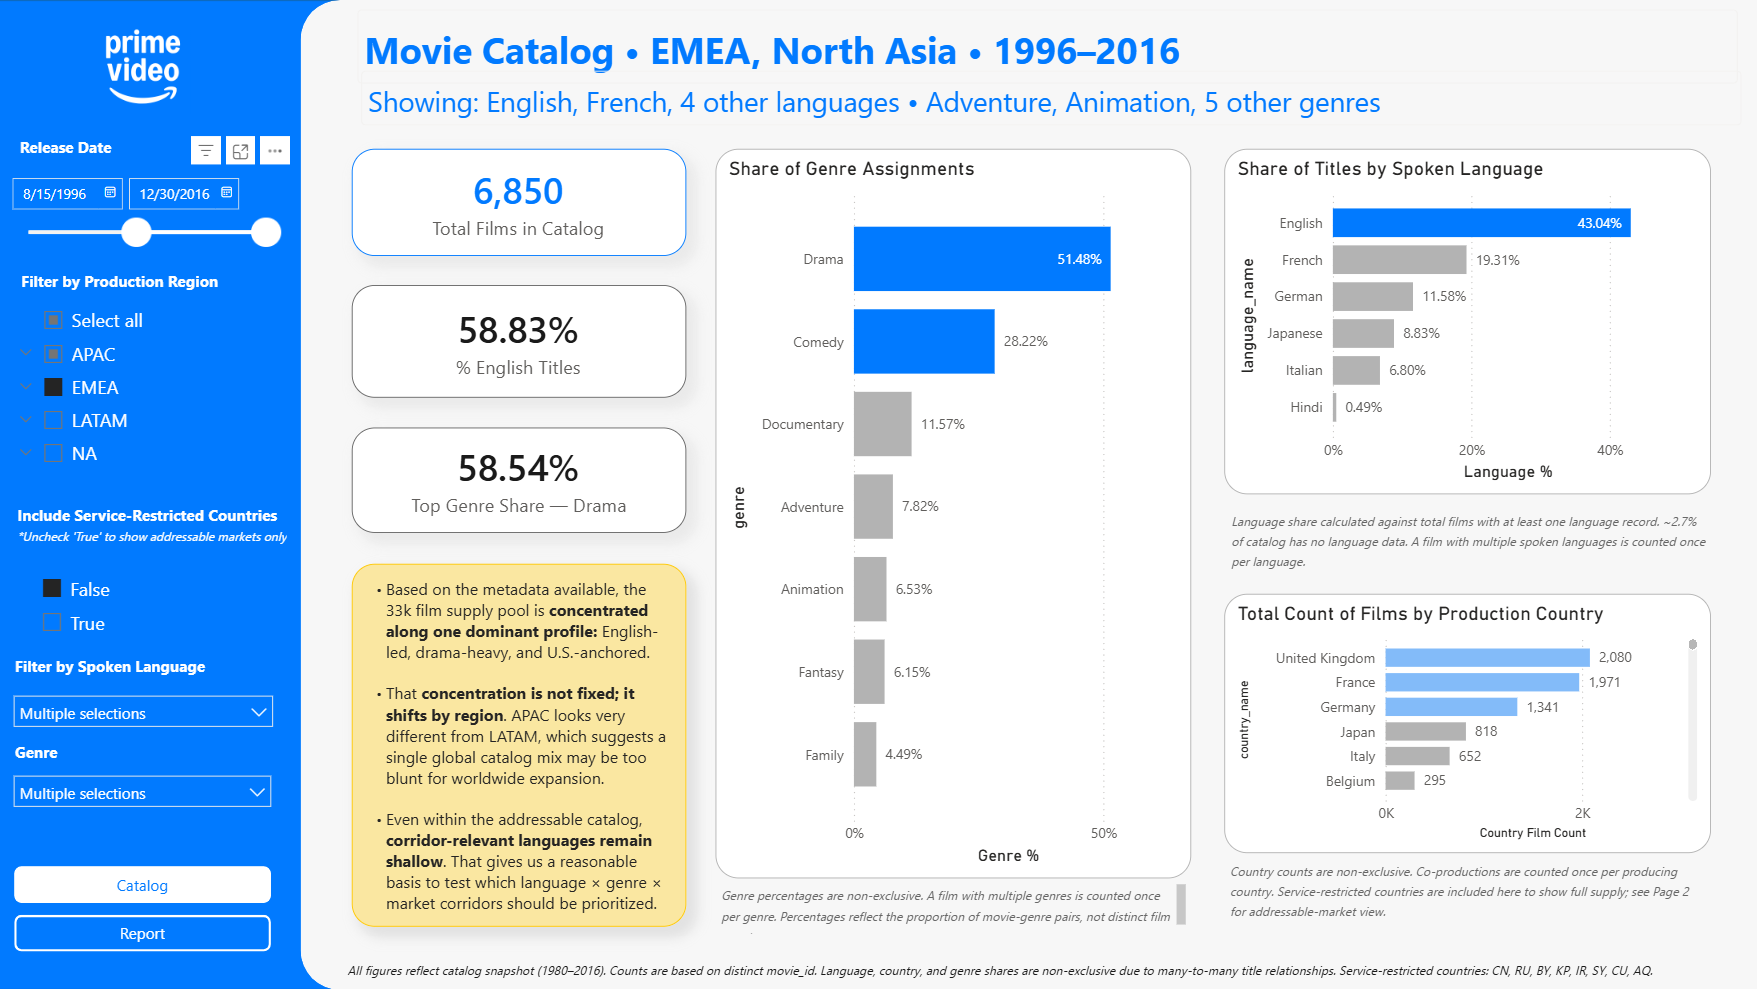

Layout of this report page (visuals, bound fields, positions):
{"tool":"powerbi","page":{"name":"Catalog","canvas":[1536,864],"ordinal":0},"visuals":[{"type":"shape","box":[0,0,312,864],"z":0},{"type":"shape","box":[264,0,1272,864],"z":1000},{"type":"shape","box":[1496,0,40,864],"z":2000},{"type":"barChart","title":"Share of Genre Assignments","fields":{"Category":["viz_genre_axis.genre"],"Y":["gold_gold fact_movies.Genre %"]},"box":[626.7,130,415,636.7],"z":3000},{"type":"slicer","fields":{"Values":["gold_gold mart_country_summary.country_region","gold_gold mart_country_summary.country_subregion"]},"box":[2.9,259.5,254.3,156.2],"z":3000,"group":"g5"},{"type":"slicer","fields":{"Values":["viz_language_filter.language_name"]},"box":[3,596,247,46],"z":3000,"group":"g3"},{"type":"barChart","title":"Share of Titles by Spoken Language","fields":{"Category":["gold_gold bridge_movie_languages.language_name"],"Y":["gold_gold fact_movies.Language %"]},"box":[1070,130,425,301.7],"z":4000},{"type":"slicer","fields":{"Values":["gold_gold mart_country_summary.is_service_restricted"]},"box":[25.7,494.6,237.8,101.1],"z":4000,"group":"g6"},{"type":"image","box":[84,0,84,114],"z":5000},{"type":"cardVisual","fields":{"Data":["gold_gold fact_movies.Total Films in Catalog (Dynamic Display)"]},"box":[308.3,130,291.7,93.3],"z":6000},{"type":"barChart","title":"Total Count of Films by Production Country","fields":{"Category":["gold_gold mart_country_summary.country_name"],"Y":["gold_gold mart_country_summary.Country Film Count"]},"box":[1070,518.3,425,226.7],"z":7000},{"type":"textbox","box":[1071.7,440,425,70],"z":8000},{"type":"textbox","box":[626.7,766.7,415,53.3],"z":9000},{"type":"textbox","box":[1070,745,425,75],"z":10000},{"type":"textbox","box":[300,831.7,1236.7,31.7],"z":11000},{"type":"textbox","box":[308.3,491.7,291.7,316.7],"z":12000},{"type":"textbox","box":[10,567,195.6,38.9],"z":12000,"group":"g3"},{"type":"textbox","box":[13.7,115,125,30],"z":13000},{"type":"slicer","fields":{"Values":["gold_gold fact_movies.release_date"]},"box":[0.3,145,255,95],"z":14000},{"type":"textbox","box":[14.9,231.4,195.5,28.1],"z":14000,"group":"g5"},{"type":"group","id":"g1","title":"Group 1","box":[2.9,231.4,254.3,184.3],"z":15000},{"type":"textbox","box":[11.5,435.7,245.3,60],"z":15000,"group":"g6"},{"type":"group","id":"g2","title":"Group 2","box":[11.5,435.7,252,160],"z":16000},{"type":"group","id":"g3","title":"Group 5","box":[3,567,247,75],"z":17000},{"type":"group","id":"g4","title":"Group 6","box":[3.3,642.2,245.6,62.2],"z":18000},{"type":"slicer","fields":{"Values":["viz_genre_filter.genre"]},"box":[3.3,666.6,245.6,37.8],"z":18000,"group":"g4"},{"type":"cardVisual","fields":{"Data":["gold_gold fact_movies.% English Titles (Dynamic)"]},"box":[308.3,248.3,291.7,98.3],"z":19000},{"type":"group","id":"g5","title":"Group 4","box":[2.9,231.4,254.3,184.3],"z":19001,"group":"g1"},{"type":"group","id":"g6","title":"Group 3","box":[11.5,435.7,252,160],"z":19001,"group":"g2"},{"type":"cardVisual","fields":{"Data":["gold_gold fact_movies.Top Genre Share % (Dynamic)"]},"box":[308.3,373.3,291.7,91.7],"z":20000},{"type":"textbox","box":[9.4,642.2,195,38.3],"z":21000,"group":"g4"},{"type":"pageNavigator","box":[14.4,755.6,224.4,74.4],"z":21000},{"type":"cardVisual","fields":{"Data":["gold_gold fact_movies.Movie Catalog Title (Dynamic)"]},"box":[308.3,3.3,1215,75],"z":22000},{"type":"cardVisual","fields":{"Data":["gold_gold fact_movies.Movie Catalog Subtitle (Dynamic)"]},"box":[311.7,56.7,1215,58.3],"z":23000},{"type":"cardVisual","fields":{"Data":["gold_gold fact_movies.Top Genre Share Label (Dynamic)"]},"box":[308.6,415.7,292.9,47.1],"z":24000}]}

Visuals, with their boxes on the page's 1536x864 design canvas (x1, y1, x2, y2). These are canvas units, not pixel positions in the 1757x989 screenshot, which may show the page scaled, cropped or inside an application window:
shape: l=0, t=0, r=312, b=864
shape: l=264, t=0, r=1536, b=864
shape: l=1496, t=0, r=1536, b=864
"Share of Genre Assignments" barChart: l=627, t=130, r=1042, b=767
slicer - gold_gold mart_country_summary.country_region x gold_gold mart_country_summary.country_subregion: l=3, t=260, r=257, b=416
slicer - viz_language_filter.language_name: l=3, t=596, r=250, b=642
"Share of Titles by Spoken Language" barChart: l=1070, t=130, r=1495, b=432
slicer - gold_gold mart_country_summary.is_service_restricted: l=26, t=495, r=264, b=596
image: l=84, t=0, r=168, b=114
cardVisual - gold_gold fact_movies.Total Films in Catalog (Dynamic Display): l=308, t=130, r=600, b=223
"Total Count of Films by Production Country" barChart: l=1070, t=518, r=1495, b=745
textbox: l=1072, t=440, r=1497, b=510
textbox: l=627, t=767, r=1042, b=820
textbox: l=1070, t=745, r=1495, b=820
textbox: l=300, t=832, r=1537, b=863
textbox: l=308, t=492, r=600, b=808
textbox: l=10, t=567, r=206, b=606
textbox: l=14, t=115, r=139, b=145
slicer - gold_gold fact_movies.release_date: l=0, t=145, r=255, b=240
textbox: l=15, t=231, r=210, b=260
"Group 1" group: l=3, t=231, r=257, b=416
textbox: l=12, t=436, r=257, b=496
"Group 2" group: l=12, t=436, r=264, b=596
"Group 5" group: l=3, t=567, r=250, b=642
"Group 6" group: l=3, t=642, r=249, b=704
slicer - viz_genre_filter.genre: l=3, t=667, r=249, b=704
cardVisual - gold_gold fact_movies.% English Titles (Dynamic): l=308, t=248, r=600, b=347
"Group 4" group: l=3, t=231, r=257, b=416
"Group 3" group: l=12, t=436, r=264, b=596
cardVisual - gold_gold fact_movies.Top Genre Share % (Dynamic): l=308, t=373, r=600, b=465
textbox: l=9, t=642, r=204, b=680
pageNavigator: l=14, t=756, r=239, b=830
cardVisual - gold_gold fact_movies.Movie Catalog Title (Dynamic): l=308, t=3, r=1523, b=78
cardVisual - gold_gold fact_movies.Movie Catalog Subtitle (Dynamic): l=312, t=57, r=1527, b=115
cardVisual - gold_gold fact_movies.Top Genre Share Label (Dynamic): l=309, t=416, r=602, b=463
